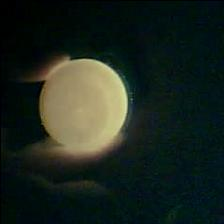infertile: (38, 56, 128, 150)
